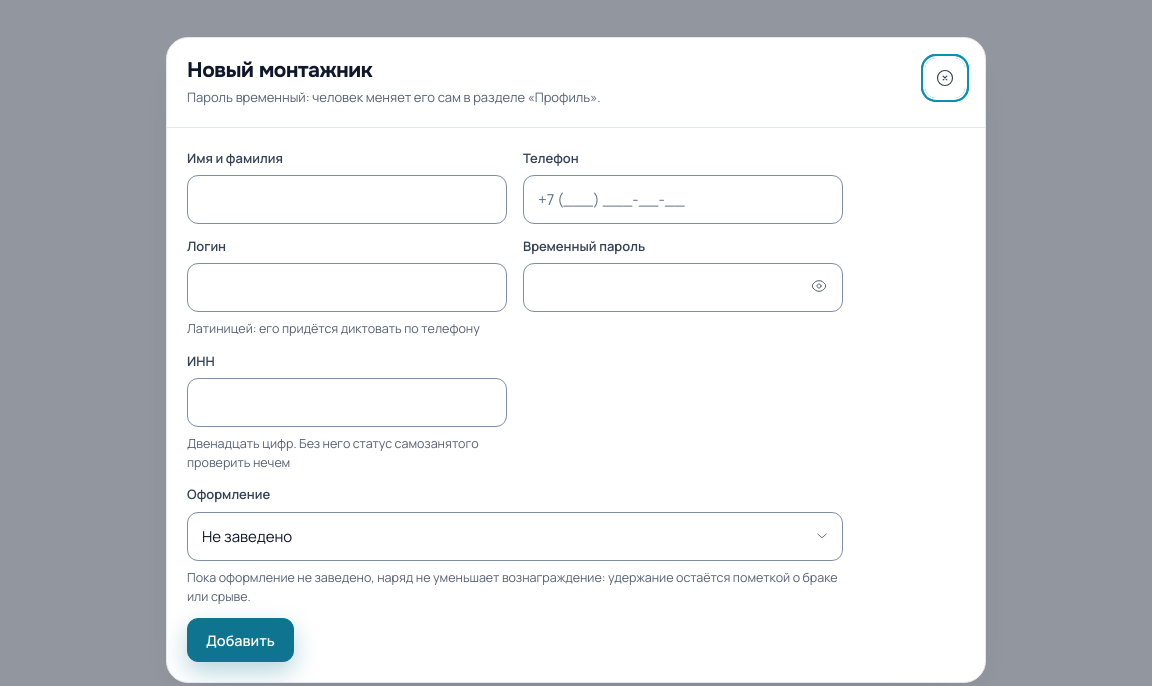
Test case: Окно заведения монтажника › 🔴 ИНН в окне работает так же, как на странице: самозанятый без него предупреждает
Select "Самозанятый" in the dropdown labelled "Оформление": [515, 536] box left=187, top=512, right=843, bottom=561
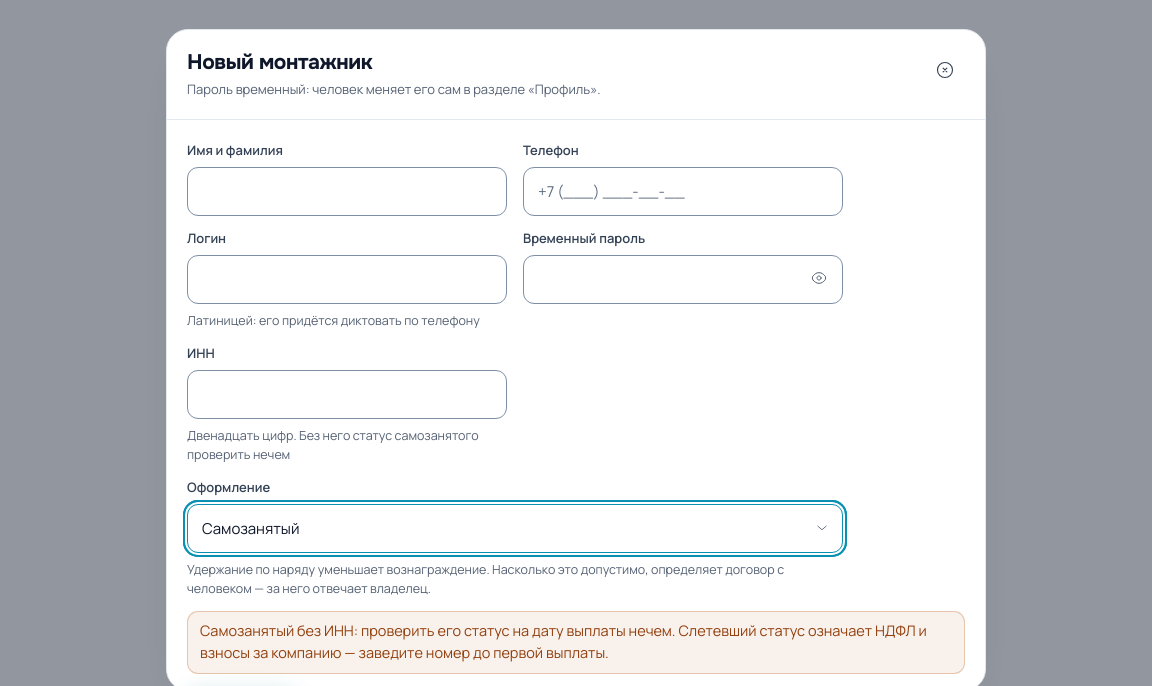
Result: the text "Самозанятый без ИНН: проверить его статус на дату выплаты нечем. Слетевший статус означает НДФЛ и взносы за компанию — з" is shown at left=200, top=621, right=927, bottom=662
In the field labelled "ИНН": [347, 394] box left=187, top=370, right=507, bottom=419, type "710703123450"
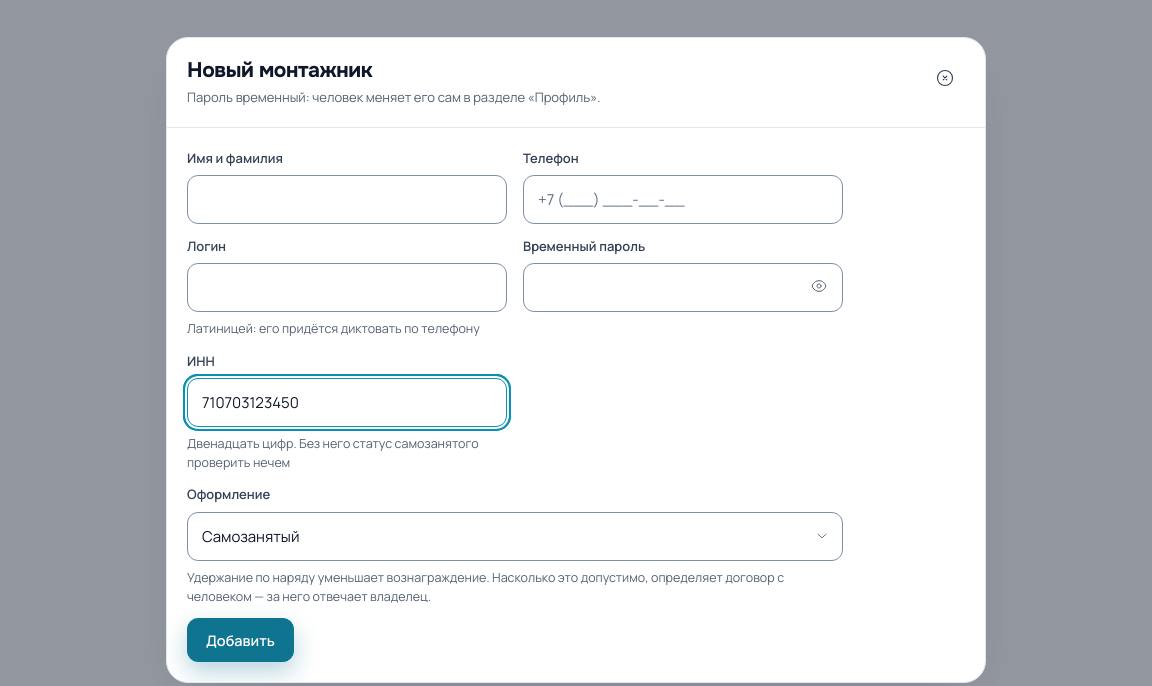
Result: the text "Самозанятый без ИНН: проверить его статус на дату выплаты нечем. Слетевший статус означает НДФЛ и взносы за компанию — з" is gone
